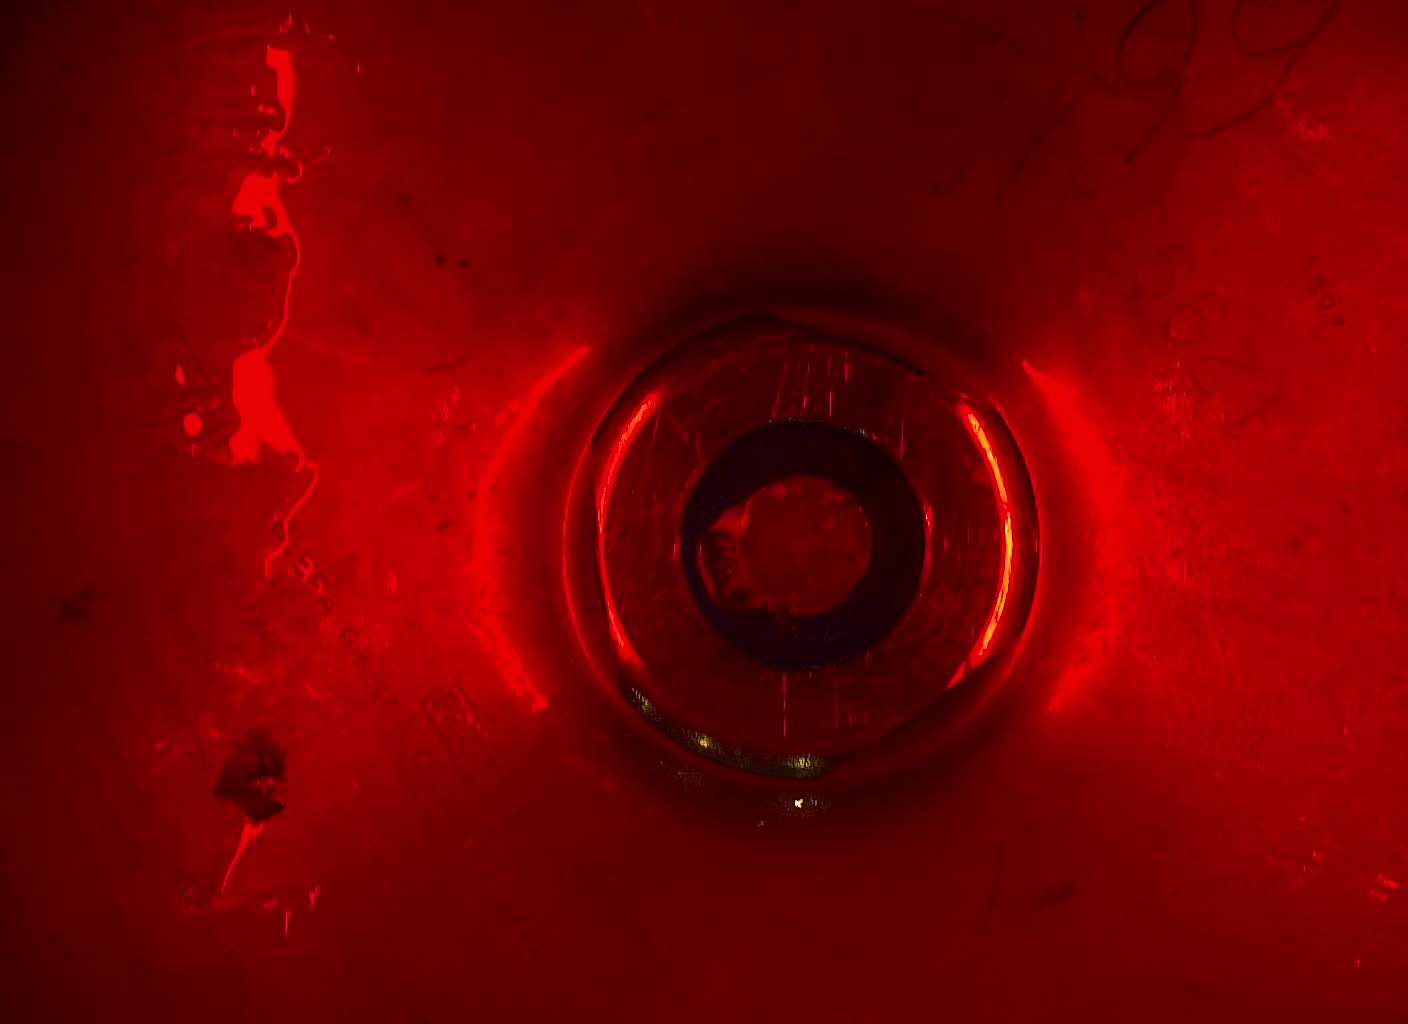pena: (683, 472, 773, 635)
